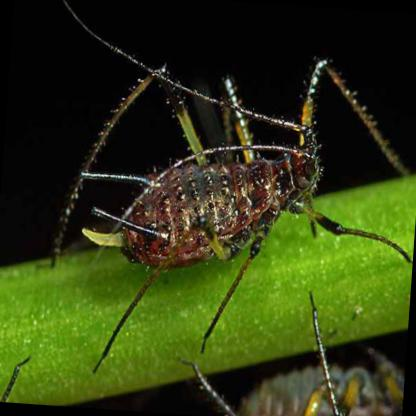uroleucon compositae: (82, 59, 402, 268)
